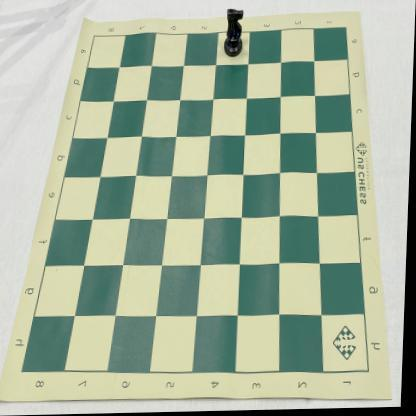black-knight: (222, 7, 246, 60)
